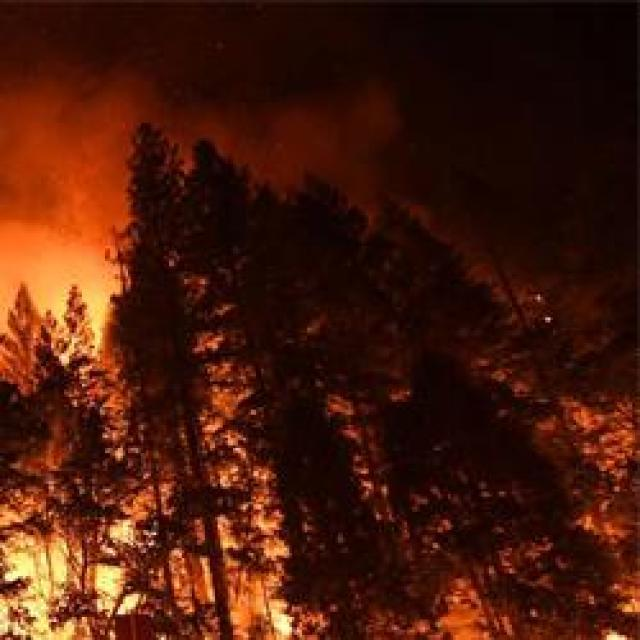Fire: (4, 534, 132, 638)
